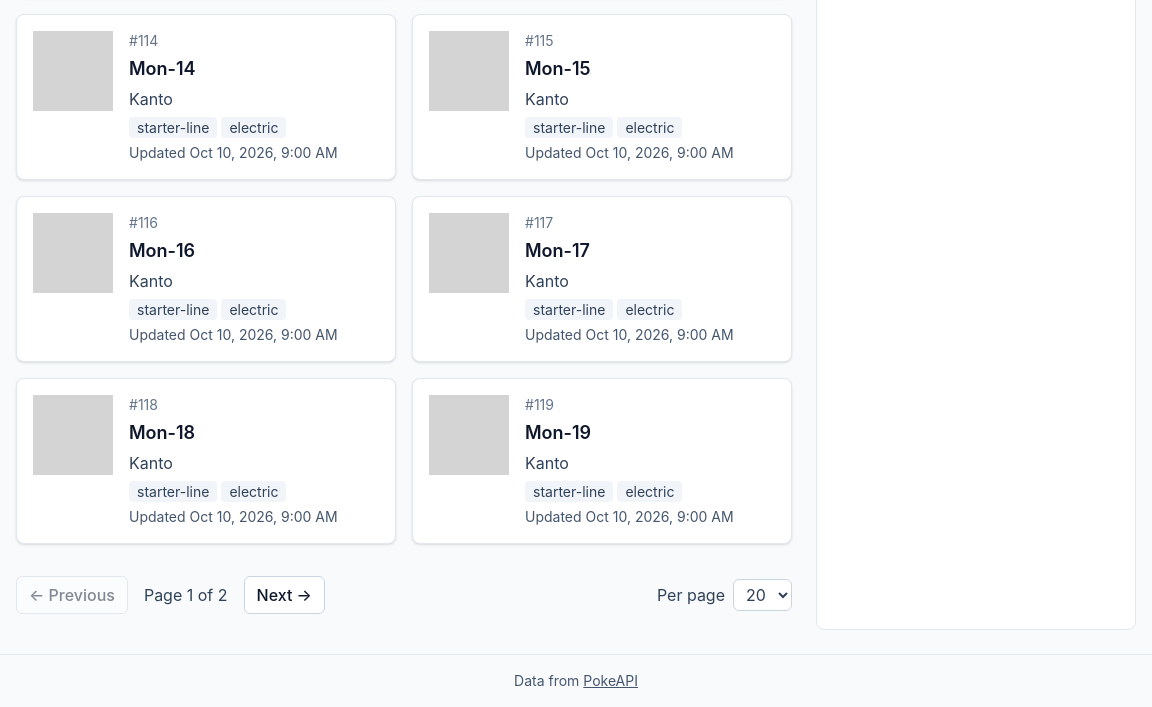
Test: My Pokédex list › pages through the records with the URL
(page scrolled)
Click the button named "Next page": point(284, 595) [244,576,325,614]
(page scrolled)
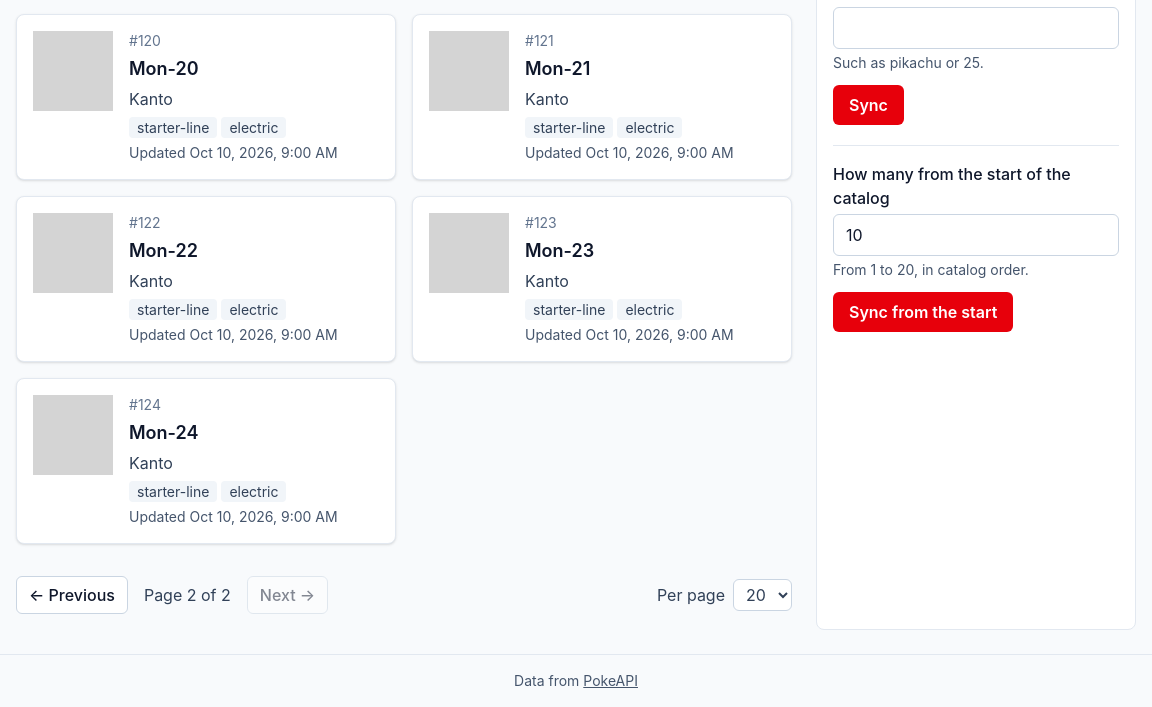
Expected: the link "Mon-20" is shown, [129,58,199,79]
Expected: the navigation bar named "Pagination" shows "Page 2 of 2", [16,576,792,614]
